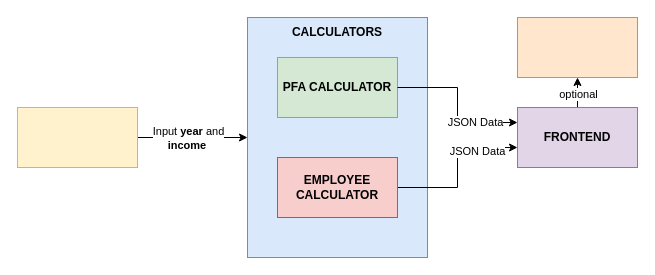
Image size: 655x275. Some labels were removed from this diagram. The centre of each missing label's shape, as x and y in pixels:
EXCEL / CSV EXPORT: (577,47)
USER: (77,137)
